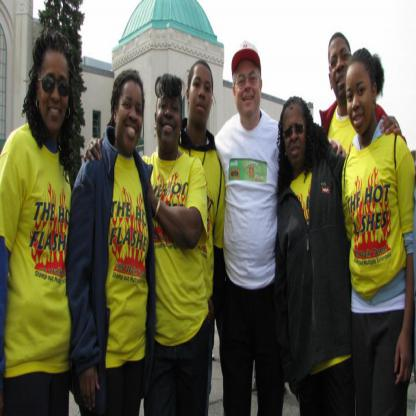face: (40, 52, 70, 131), (117, 81, 144, 154), (347, 62, 374, 135), (157, 83, 181, 145), (329, 39, 353, 99), (236, 60, 261, 117), (283, 104, 307, 163), (190, 64, 213, 125)
